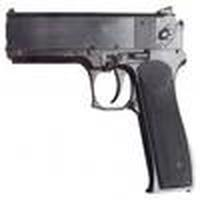gun: (6, 8, 200, 197)
